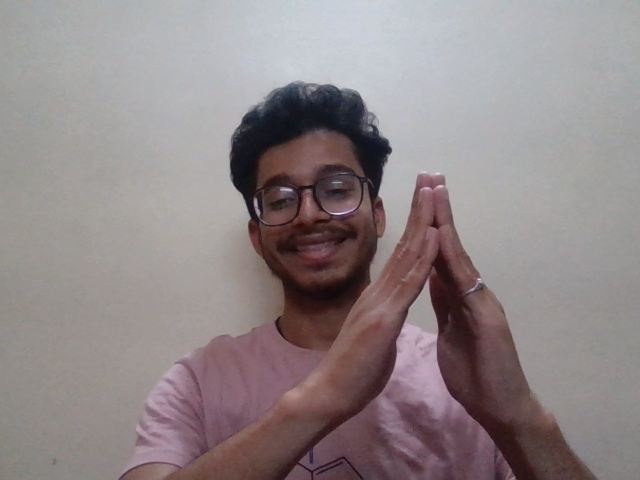home: (333, 167, 553, 435)
